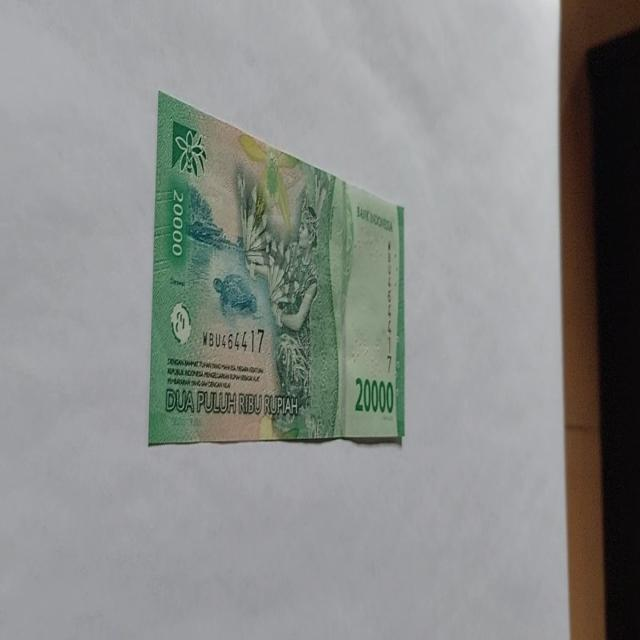dua puluh ribu rupiah: (148, 90, 406, 448)
